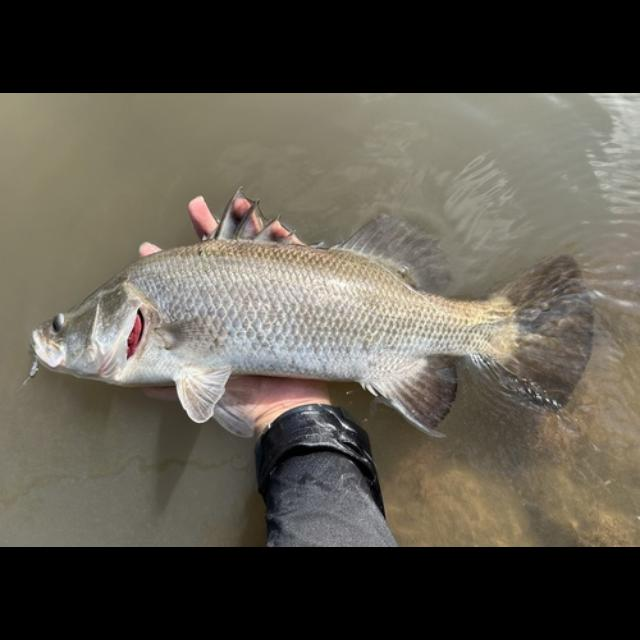Seabass: (29, 182, 595, 436)
